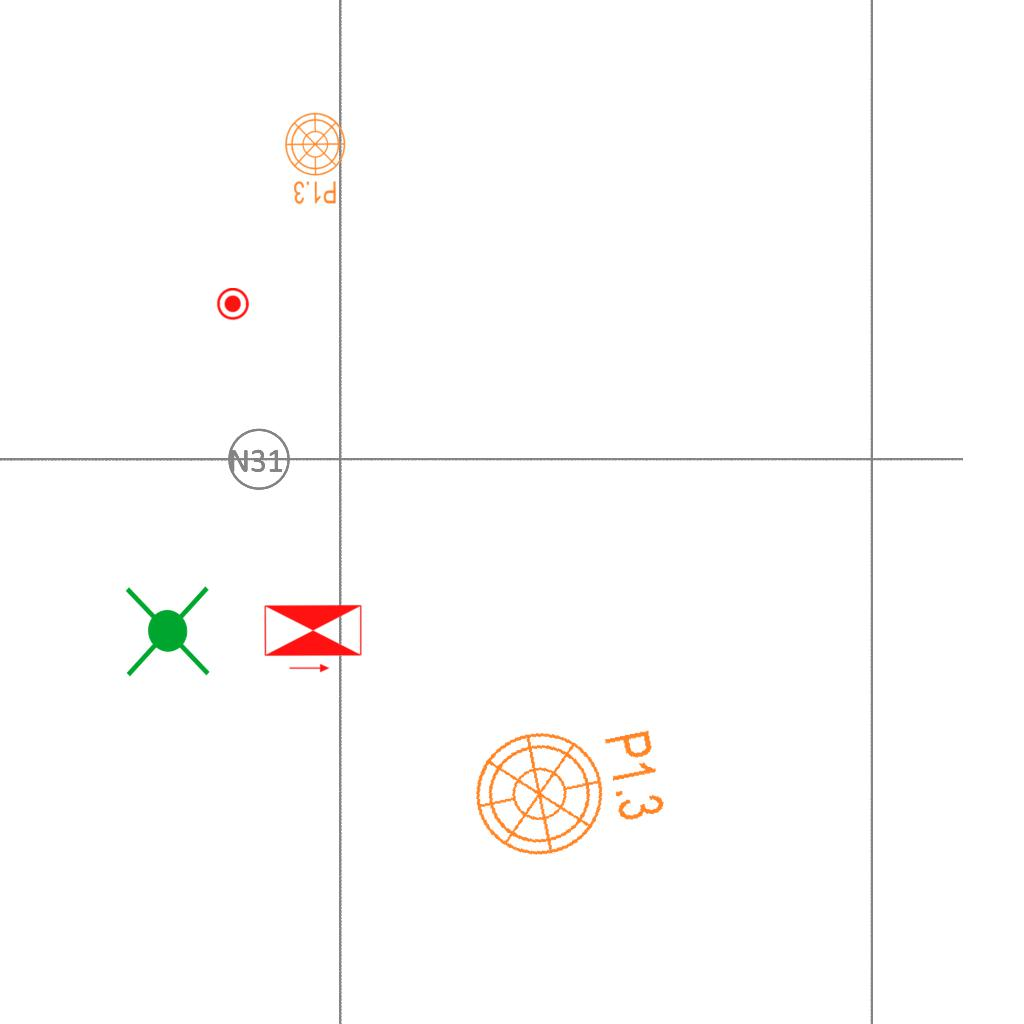Aufbaurundleuchte_LED_Treppenhaus: (461, 704, 690, 881), (278, 111, 347, 213)
Fluchtwegpiktogramm: (261, 602, 365, 675)
Notlichtbaustein_in_Allgemeinbeleuchtug_engebaut_Einbau_(1UG_und_2UG_Aufbauvaria: (115, 581, 218, 681)
Taster: (216, 288, 249, 321)
